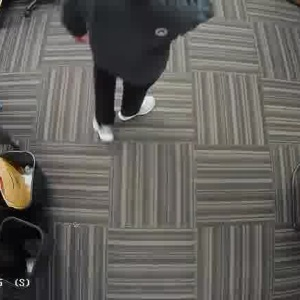person: (85, 0, 183, 136)
